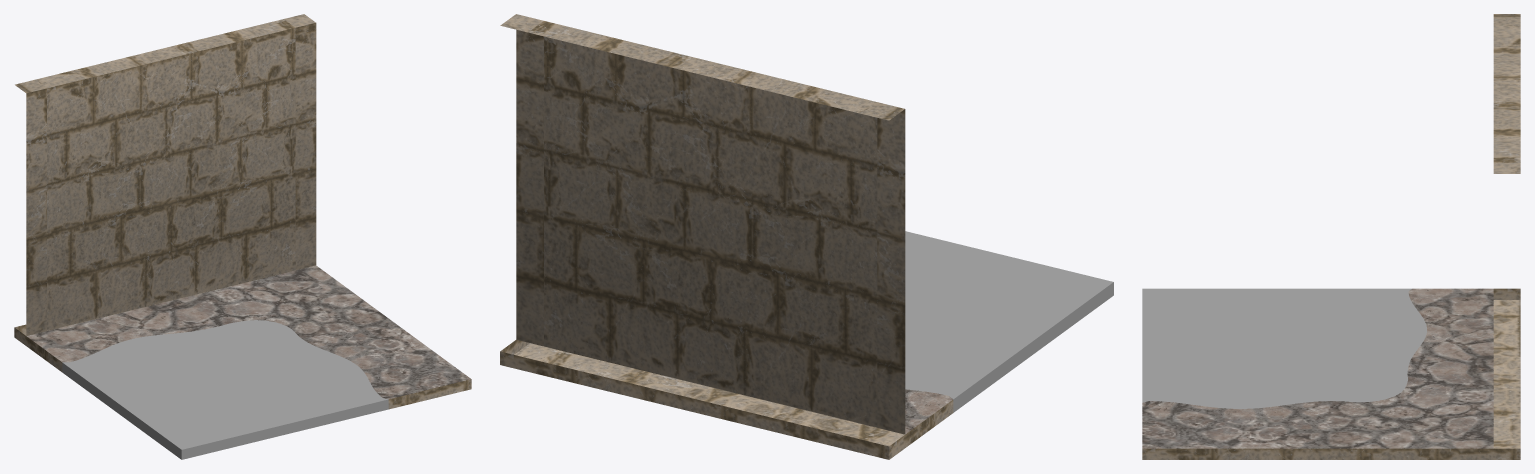
Rendered from ModuleWallWithGroundCurve.fbx.
3 views of the same model, side by side, from view 1: azimuth 30°, elevation 25°; view 2: azimuth 150°, elevation 25°; view 3: azimuth 270°, elevation 25° (orthographic). The views are drawn at different scales.
Parts seen in each view (by area): view 1: ModuleWallWithGroundWalls, ModuleWallWithGroundDirtTile, ModuleWallWithGroundCobblesTile, ModuleWallWithGroundDirtEdge, ModuleWallWithGroundCobblesEdge; view 2: ModuleWallWithGroundWalls, ModuleWallWithGroundDirtTile, ModuleWallWithGroundCobblesEdge, ModuleWallWithGroundDirtEdge, ModuleWallWithGroundCobblesTile; view 3: ModuleWallWithGroundDirtTile, ModuleWallWithGroundCobblesTile, ModuleWallWithGroundCobblesEdge, ModuleWallWithGroundWalls.
Boxes of the visible parts, x1,y1,x2,y2 form: ModuleWallWithGroundWalls: (15, 14, 316, 335); ModuleWallWithGroundDirtTile: (62, 320, 387, 449); ModuleWallWithGroundCobblesTile: (26, 265, 471, 399); ModuleWallWithGroundDirtEdge: (62, 363, 388, 459); ModuleWallWithGroundCobblesEdge: (14, 324, 471, 409); ModuleWallWithGroundWalls: (500, 14, 905, 434); ModuleWallWithGroundDirtTile: (905, 231, 1113, 399); ModuleWallWithGroundCobblesEdge: (500, 339, 953, 459); ModuleWallWithGroundDirtEdge: (953, 282, 1113, 412); ModuleWallWithGroundCobblesTile: (905, 389, 952, 434); ModuleWallWithGroundDirtTile: (1142, 288, 1426, 408); ModuleWallWithGroundCobblesTile: (1142, 288, 1493, 448); ModuleWallWithGroundCobblesEdge: (1142, 288, 1520, 459); ModuleWallWithGroundWalls: (1493, 14, 1520, 173).
Bounding box in the file's own units: 300 × 250 × 300.
